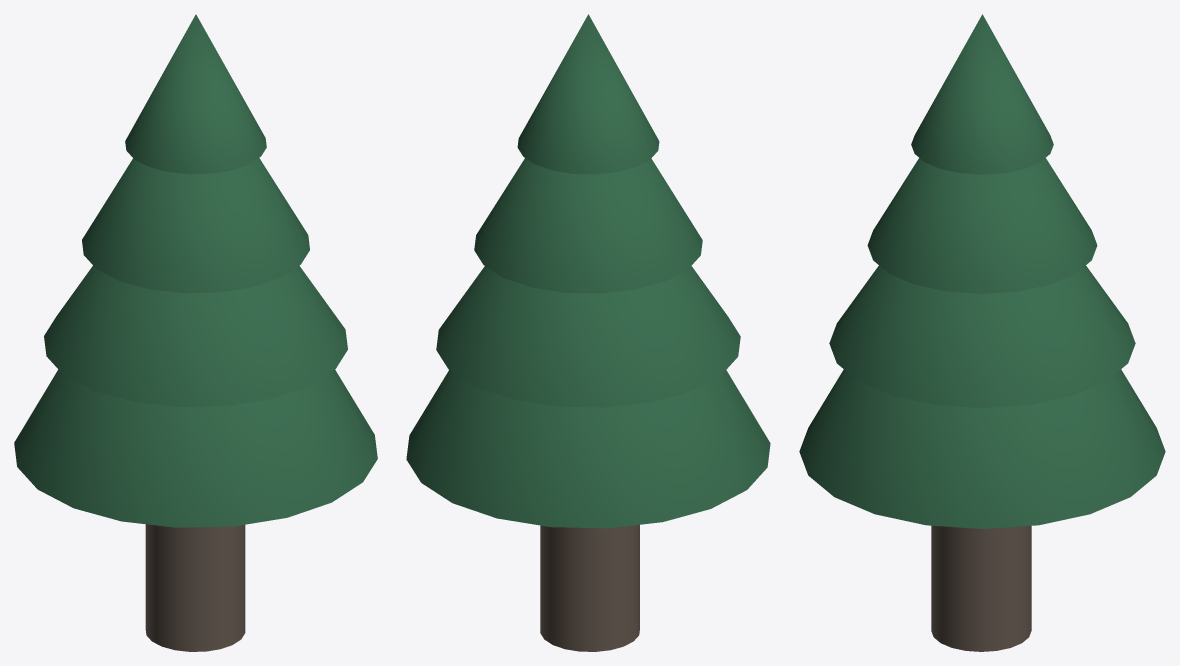
The model's file is Pino_blocking_v2.fbx.
3 renders of one model, left to right at view 1: azimuth 30°, elevation 25°; view 2: azimuth 150°, elevation 25°; view 3: azimuth 270°, elevation 25°, orthographic.
Visible parts, largest first — view 1: Hojas3, Hojas2, Hojas1, Hojas, Tronco; view 2: Hojas3, Hojas2, Hojas1, Hojas, Tronco; view 3: Hojas3, Hojas2, Hojas1, Hojas, Tronco.
Boxes of the visible parts, box(x1,y1,x2,y2) form: Hojas3: box(14, 369, 377, 527); Hojas2: box(44, 265, 347, 406); Hojas1: box(82, 158, 309, 293); Hojas: box(125, 14, 266, 174); Tronco: box(145, 524, 245, 651); Hojas3: box(406, 370, 770, 528); Hojas2: box(436, 266, 740, 407); Hojas1: box(474, 158, 702, 293); Hojas: box(517, 14, 659, 174); Tronco: box(540, 524, 639, 651); Hojas3: box(799, 369, 1165, 528); Hojas2: box(829, 265, 1135, 407); Hojas1: box(867, 158, 1097, 293); Hojas: box(911, 14, 1053, 174); Tronco: box(931, 525, 1031, 651).
Bounding box in the file's own units: 3.8 × 7.07 × 3.8.
